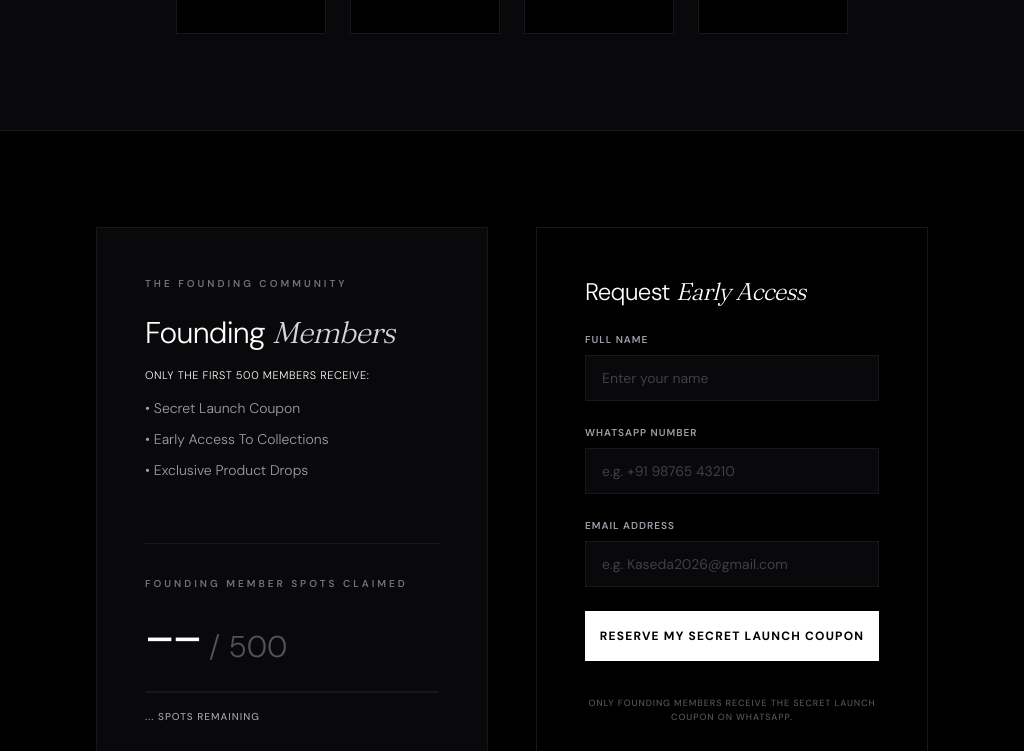
Test case: Home Page Unit Tests › Registration Form Validation & State › displays validation error for empty email
(page scrolled)
Type "John Doe" into the field labelled "Full Name" at (732, 378), box [585,355,879,401]
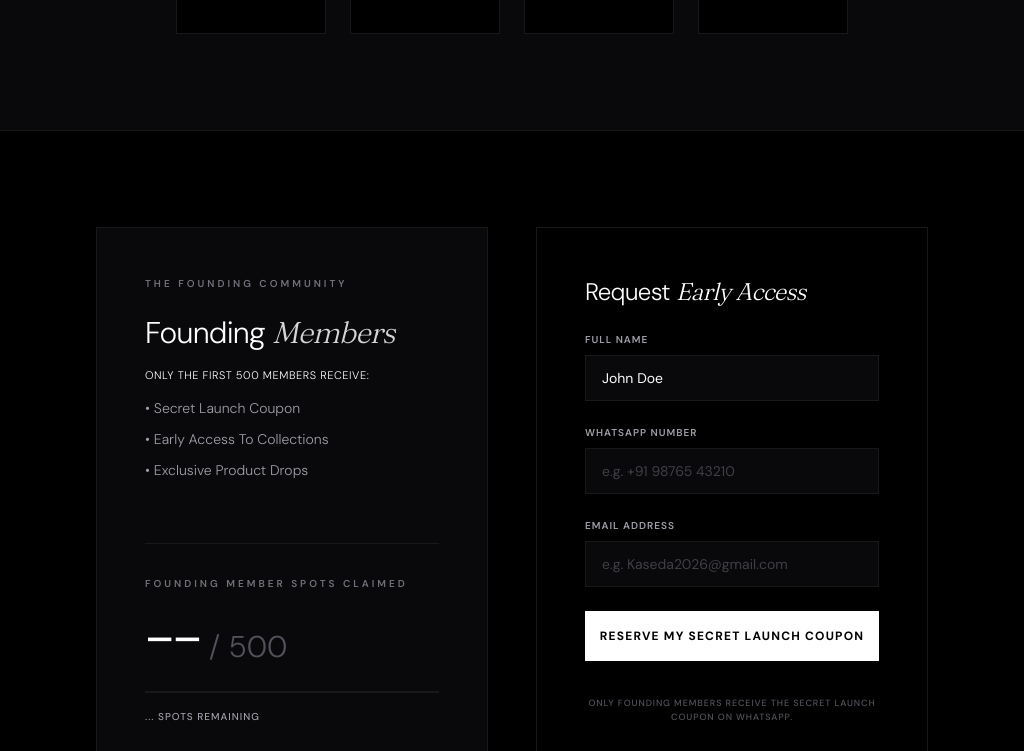
Type "+919876543210" into the field labelled "WhatsApp Number" at (732, 471), box [585,448,879,494]
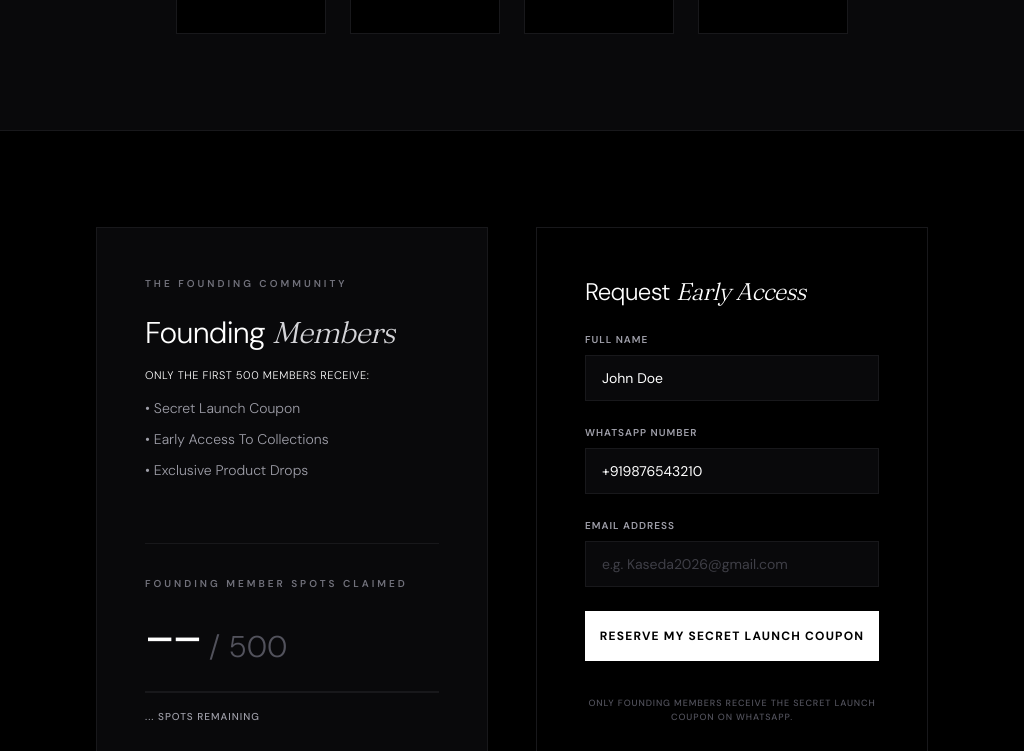
Submit the text "Reserve My Secret Launch Coupon", box [585,332,879,724]
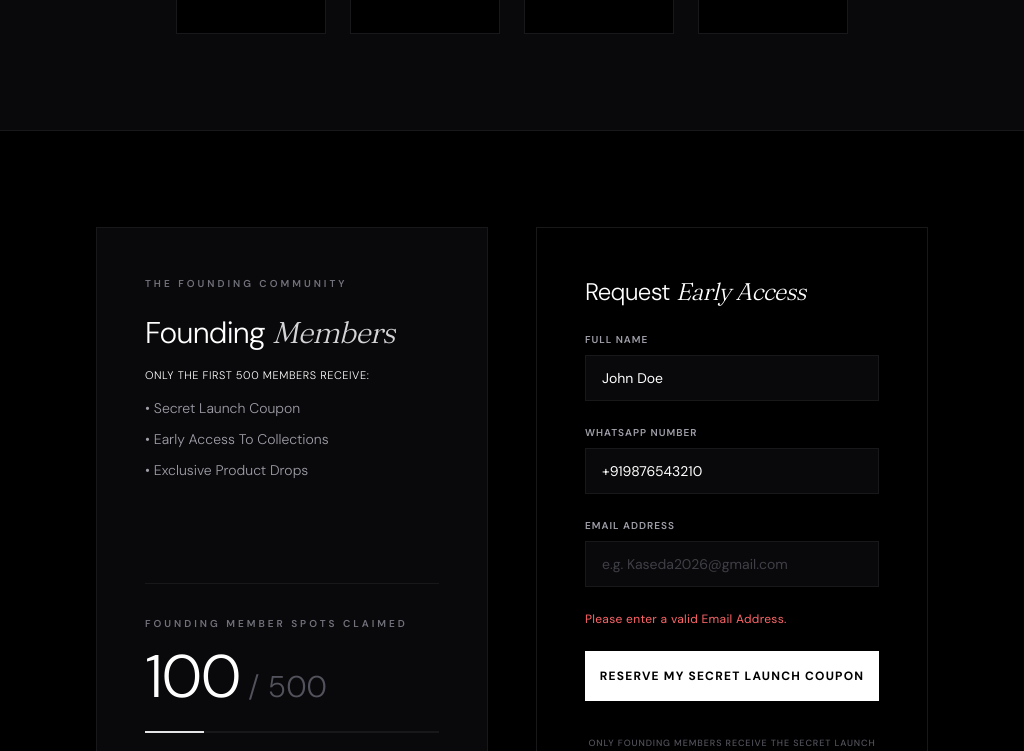
Check: the text "Please enter a valid Email Address." is shown, box [585,611,787,627]
